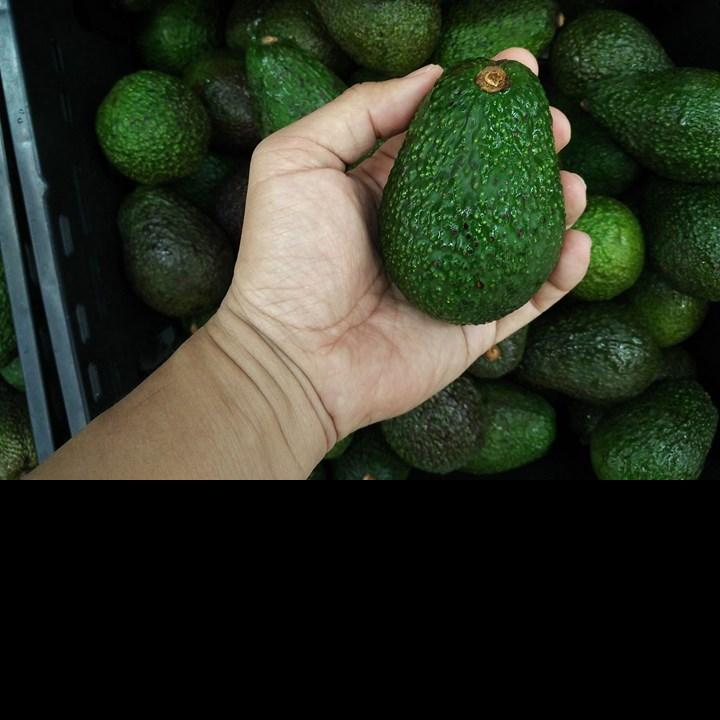almost: (114, 187, 229, 317), (522, 315, 666, 403), (380, 376, 488, 476)
unripe: (378, 57, 565, 326), (579, 66, 719, 187), (94, 67, 212, 188), (585, 378, 719, 479), (243, 33, 349, 138), (465, 385, 557, 476), (436, 3, 565, 64)
